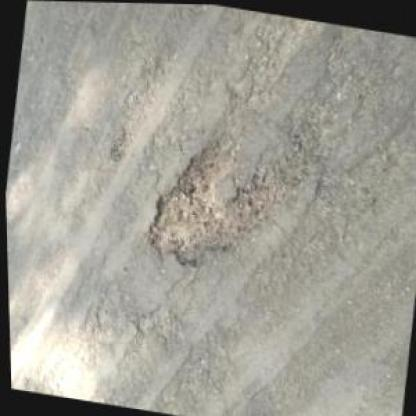pothole: (137, 124, 298, 284)
